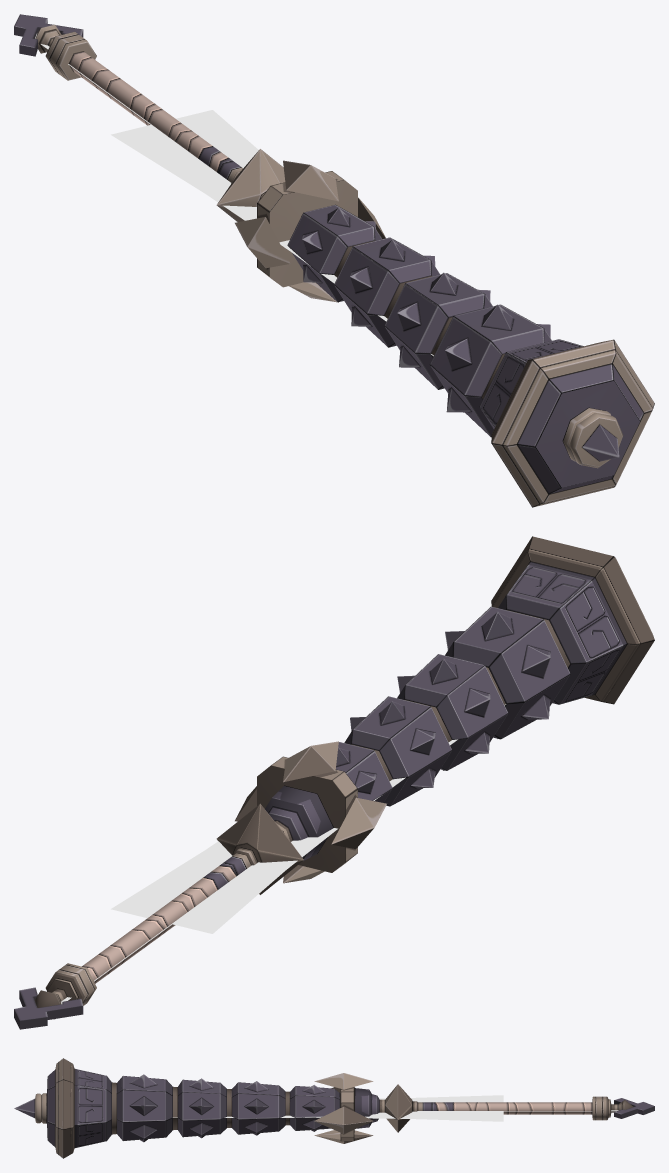
The model's file is Equip_Claymore_Reasoning.fbx.
3 renders of one model, top to bottom at view 1: azimuth 30°, elevation 25°; view 2: azimuth 150°, elevation 25°; view 3: azimuth 270°, elevation 25°, orthographic. The views are drawn at different scales.
Parts seen in each view (by area): view 1: Equip_Claymore_Reasoning_Model, Equip_Claymore_Reasoning_Effect; view 2: Equip_Claymore_Reasoning_Model, Equip_Claymore_Reasoning_Effect; view 3: Equip_Claymore_Reasoning_Model, Equip_Claymore_Reasoning_Effect.
Boxes of the visible parts, x1,y1,x2,y2 form: Equip_Claymore_Reasoning_Model: (14,14,654,507); Equip_Claymore_Reasoning_Effect: (35,34,433,356); Equip_Claymore_Reasoning_Model: (14,536,654,1029); Equip_Claymore_Reasoning_Effect: (61,704,506,1004); Equip_Claymore_Reasoning_Model: (14,1058,654,1158); Equip_Claymore_Reasoning_Effect: (173,1095,618,1121).
Bounding box in the file's own units: 0.2739 × 0.2372 × 1.74.
Materials: 2 (1 with a texture image).
